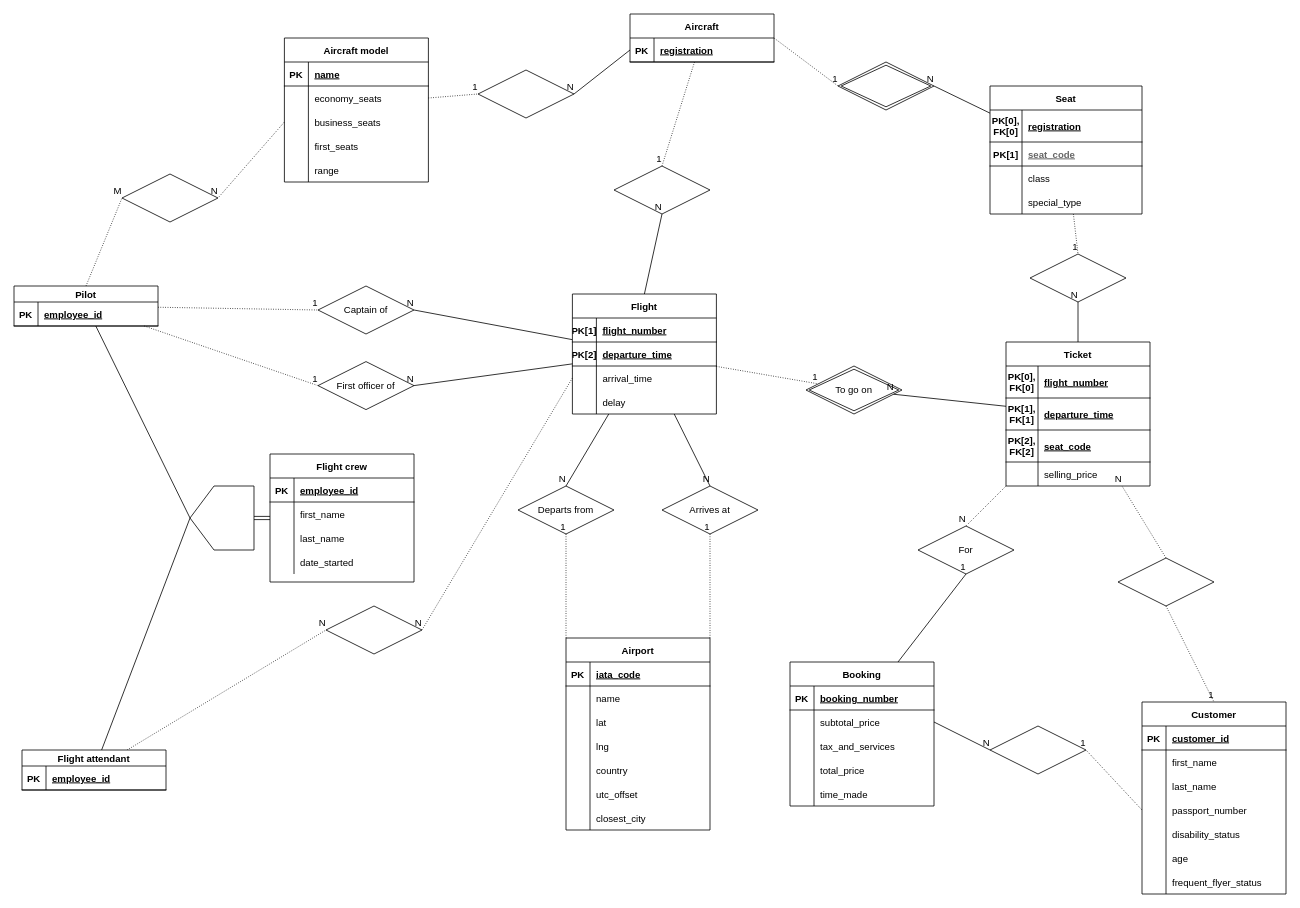
This 1300x908 diagram has some shape labels left out. The centre of each missing label's shape, as x and y in pixels:
ISA (disjoint): point 221,517
Makes: point 1037,749
Of model: point 525,93
On: point 885,85
Rated to fly: point 169,197
Reserved for: point 1165,581
Reserves: point 1077,277
Serve on: point 373,629
Serves: point 661,189
